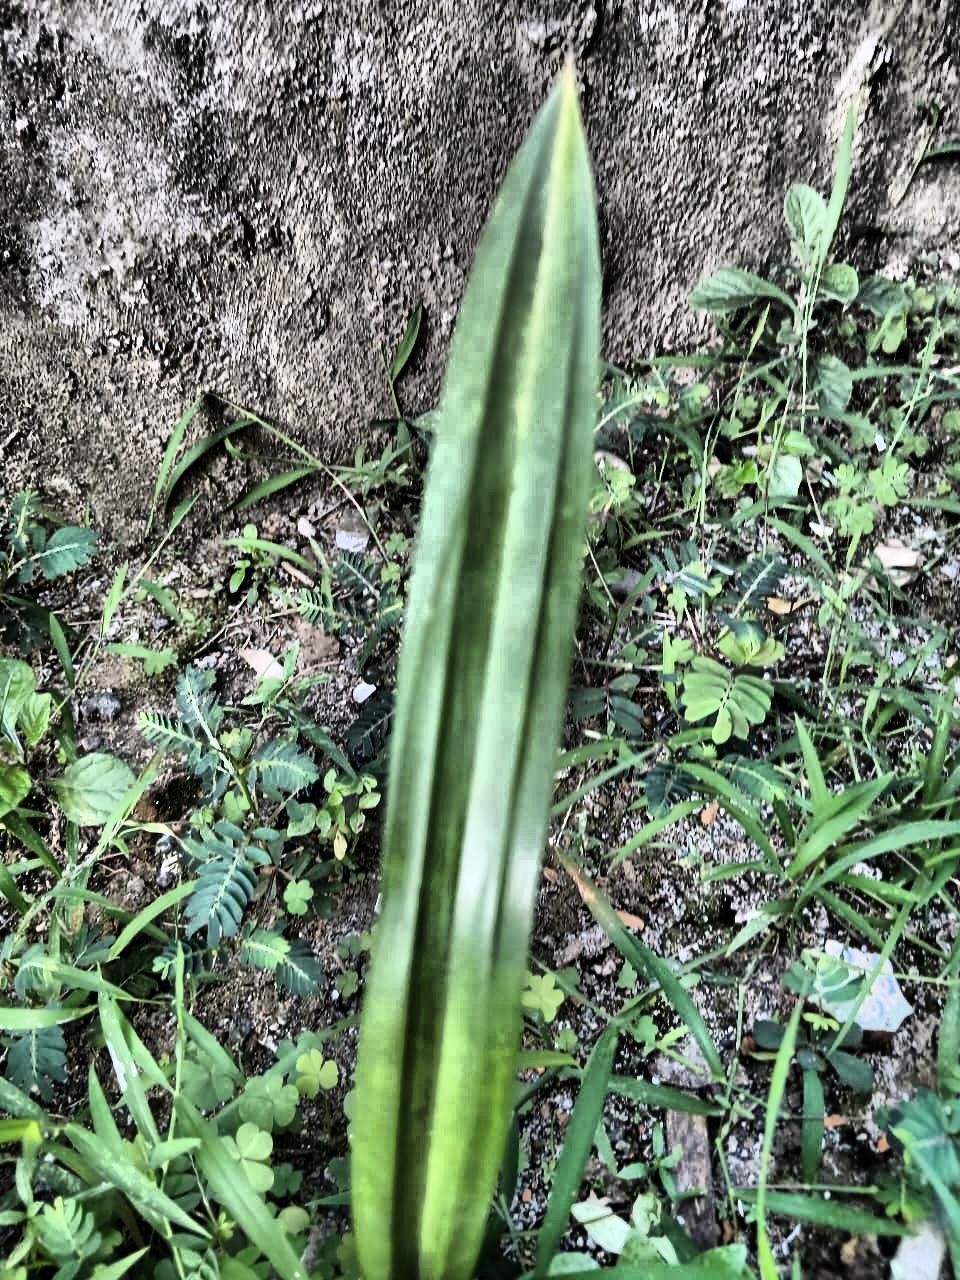daun pandan: (351, 67, 601, 1279)
